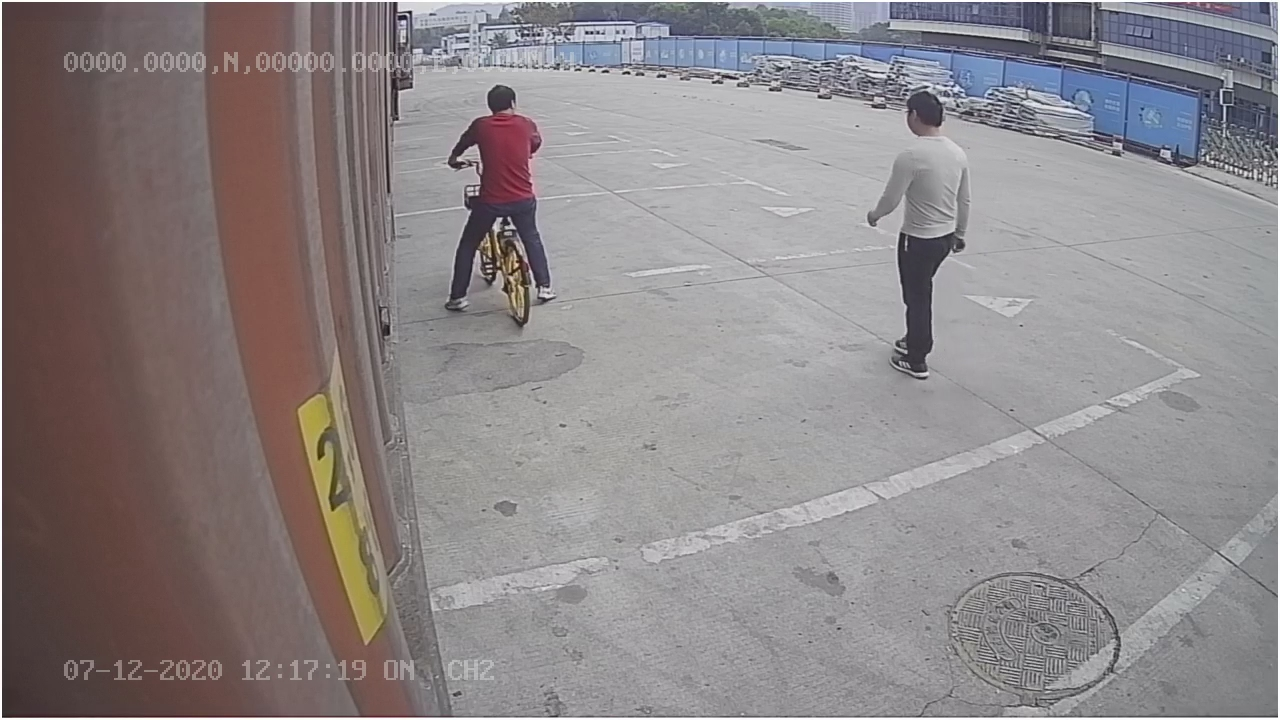person: (869, 90, 975, 384)
